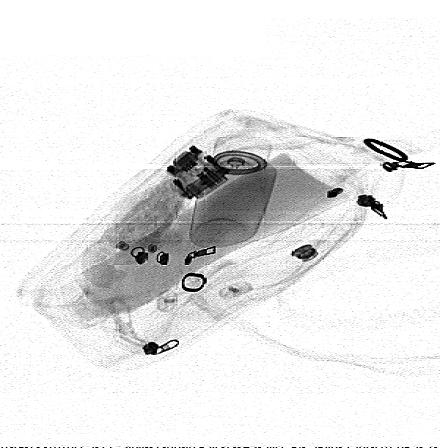Sprayer: (190, 136, 278, 249)
